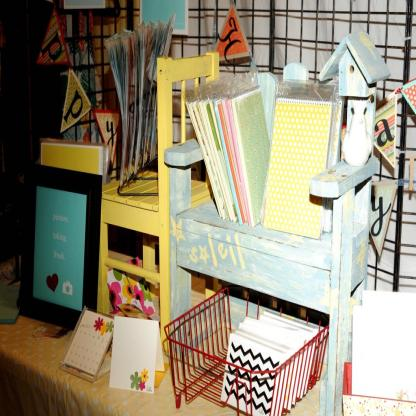book: (258, 78, 340, 249), (180, 75, 269, 232), (218, 309, 326, 416)
